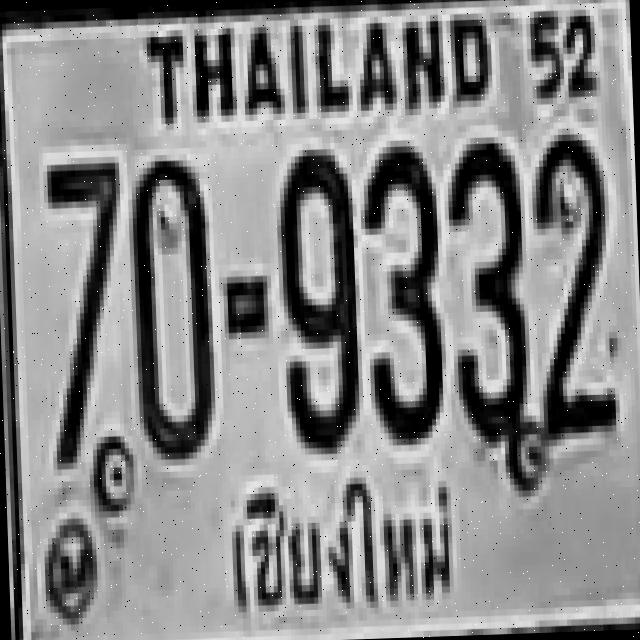ChiangMai: (197, 459, 477, 625)
